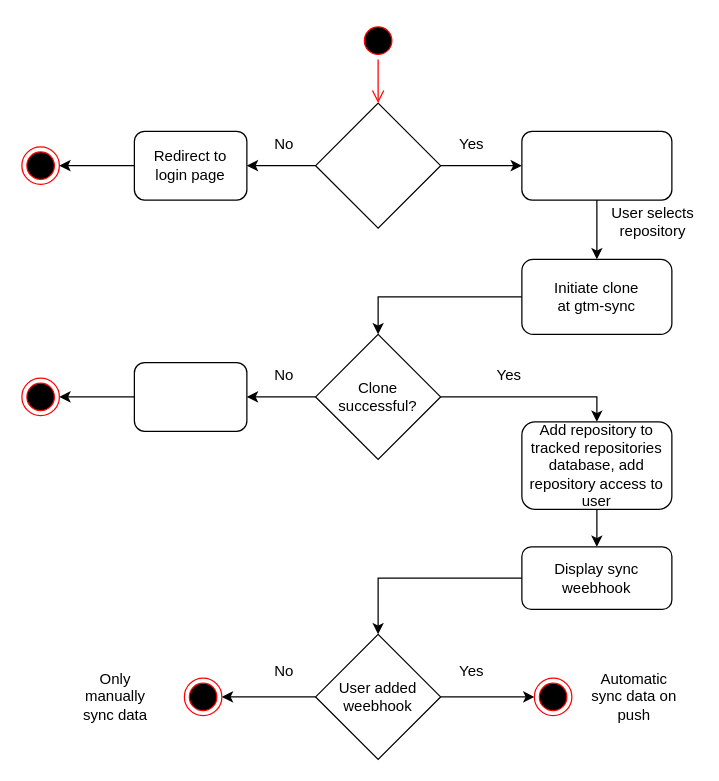
This 719x781 diagram has some shape labels left out. The shapes that lost their labels are listed below. From the top down, each one's centre as x and y in pixels, then its label:
[377,165]: User logged in?
[596,165]: Show OAuth2 accessible repositories
[190,396]: Show error
